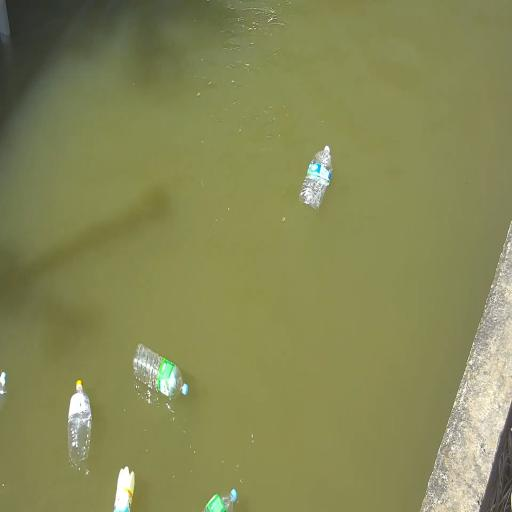plastic: (133, 344, 187, 399), (300, 146, 331, 209), (68, 380, 91, 463), (114, 467, 134, 511), (204, 489, 237, 511), (0, 372, 6, 410)
